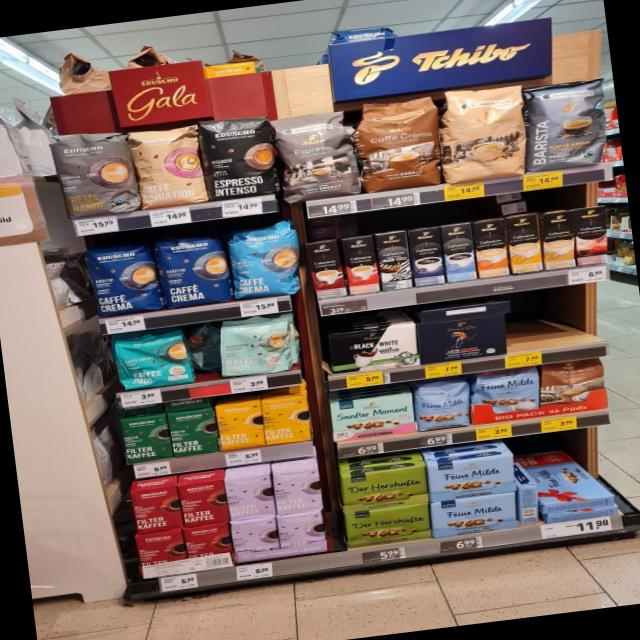BW Gemahlen: (326, 322, 421, 376)
Barista CC: (522, 76, 614, 172)
CC Mild: (440, 81, 532, 184)
CC Vollmundig 36 Pads: (354, 93, 444, 193)
Espresso Aromatisch: (271, 106, 362, 205)
FM Bohne: (412, 378, 472, 432)
FM Gemahlen: (426, 452, 518, 501), (429, 491, 520, 538)
Herzhatfe Mundig: (340, 464, 430, 512), (342, 502, 433, 548)
LG Gemahlen: (415, 312, 509, 364)
SM Gemahlen: (328, 391, 416, 442)
Simo CC Colombia: (572, 204, 610, 266)
Simo CCMild bigpack: (506, 213, 543, 274)
Simo CCVollmundig bigpack: (472, 218, 510, 278)
Simo Decaff: (539, 209, 579, 271)
Simo Es Brazil: (342, 234, 380, 294)
Simo Es Caramel: (305, 240, 346, 300)
Simo Es Elegant: (376, 230, 412, 290)
Simo Es Kraft: (408, 226, 446, 286)
Simo Es Vanilla: (441, 222, 476, 282)
